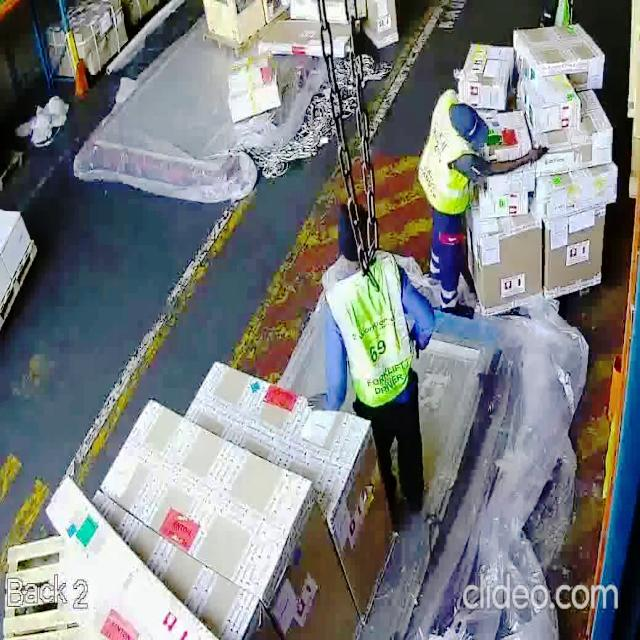Box: (120, 419, 288, 588), (194, 366, 363, 504), (468, 215, 533, 303), (541, 218, 607, 288), (515, 30, 603, 76), (456, 40, 509, 108), (232, 56, 277, 119), (521, 78, 576, 125), (544, 177, 622, 210), (538, 136, 608, 169)
